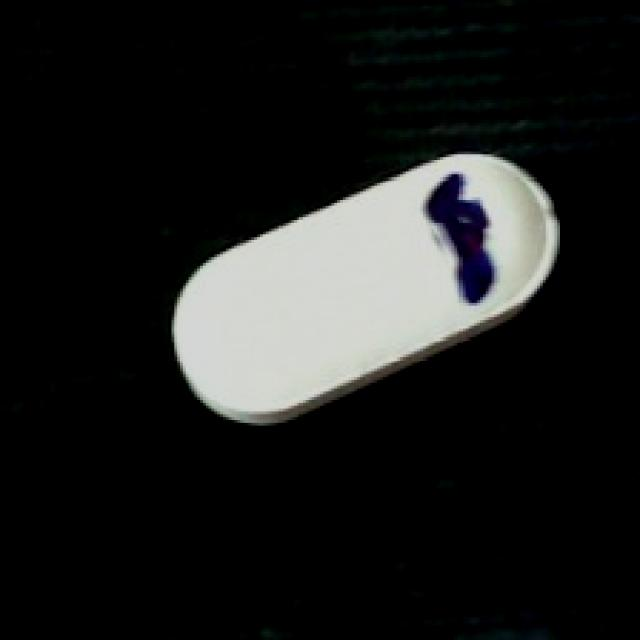defected: (167, 153, 572, 427)
